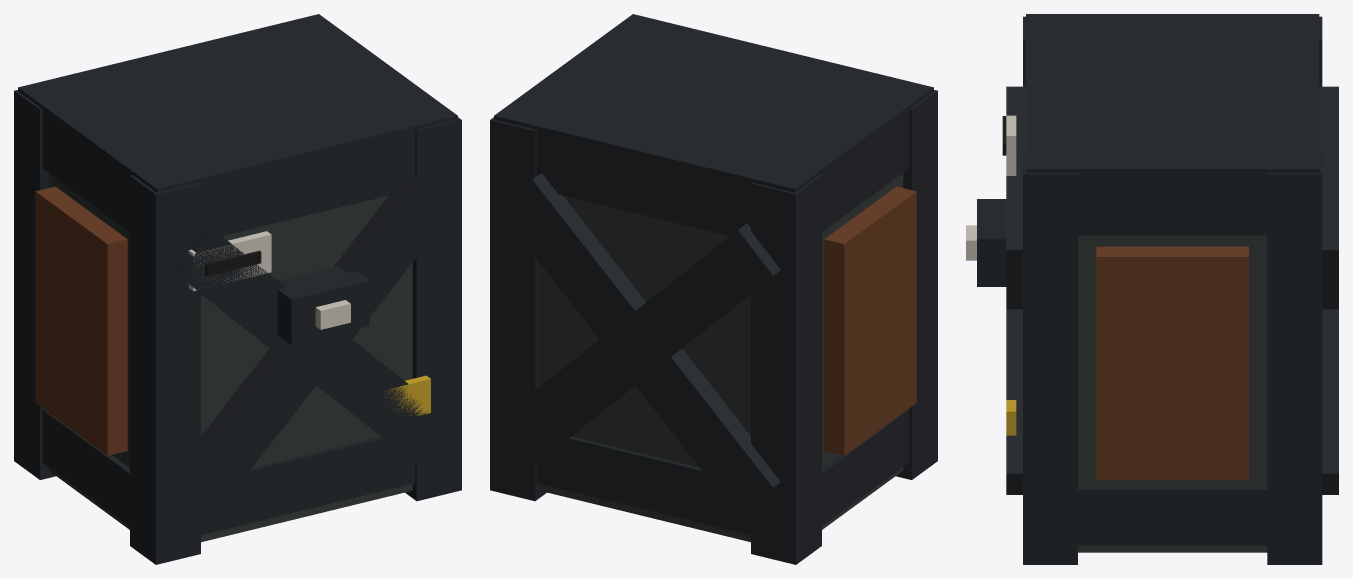
The model's file is crate_small.glb.
3 views of the same model, side by side, from view 1: azimuth 30°, elevation 25°; view 2: azimuth 150°, elevation 25°; view 3: azimuth 270°, elevation 25° (orthographic). The views are drawn at different scales.
Visible parts, largest first — view 1: crate_small; view 2: crate_small; view 3: crate_small.
Part boxes in pixels (x1,y1,x2,y2): crate_small: [14, 14, 461, 564]; crate_small: [490, 14, 937, 564]; crate_small: [966, 14, 1338, 564].
Size of the model in its own units: 0.332 by 0.36 by 0.305.
